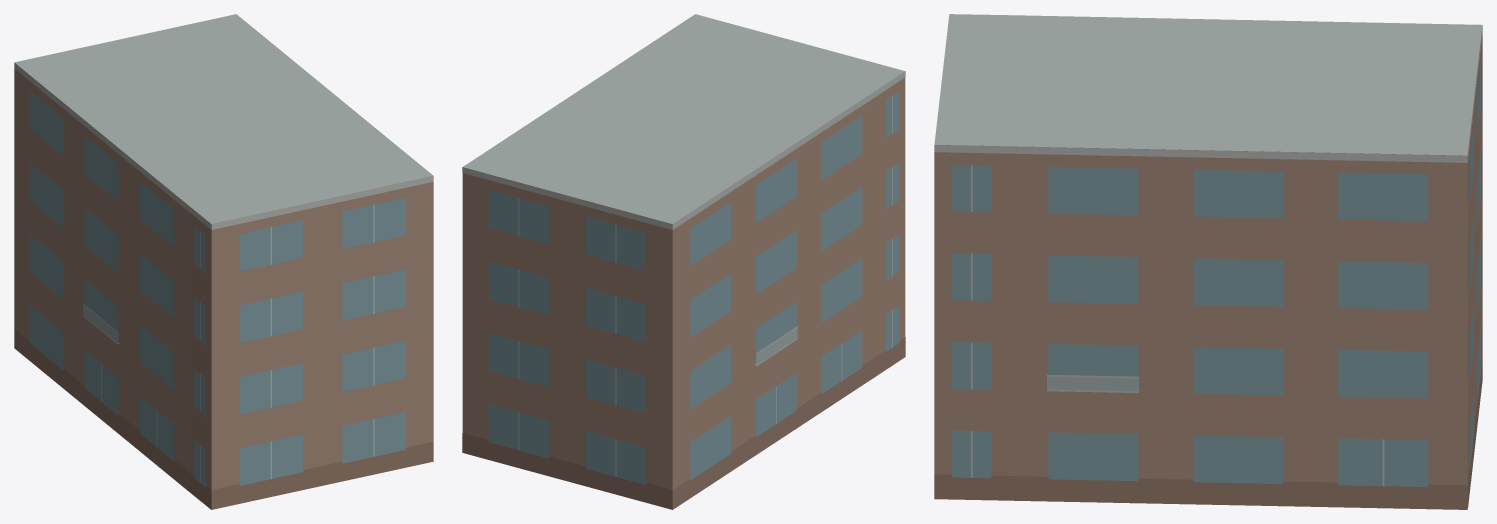
File: survey-upis-32706825.glb
3 views of the same model, side by side, from view 1: azimuth 30°, elevation 25°; view 2: azimuth 150°, elevation 25°; view 3: azimuth 270°, elevation 25° (orthographic). The views are drawn at different scales.
Visible parts, largest first — view 1: survey-upis-32706825.tmp; view 2: survey-upis-32706825.tmp; view 3: survey-upis-32706825.tmp.
Part boxes in pixels (x1,y1,x2,y2): survey-upis-32706825.tmp: [14, 14, 433, 509]; survey-upis-32706825.tmp: [462, 14, 905, 509]; survey-upis-32706825.tmp: [934, 14, 1482, 509].
Size of the model in its own units: 10.03 by 11.7 by 16.42.
